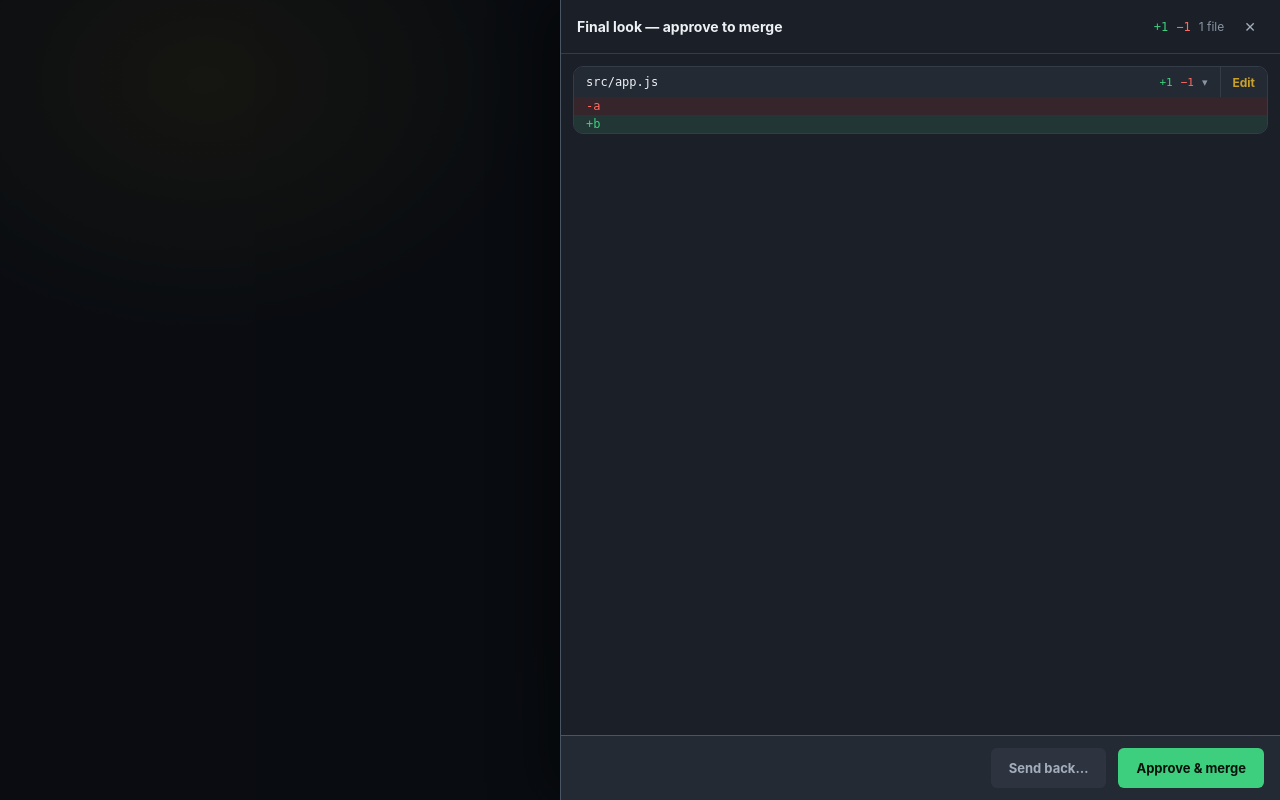
Test case: DiffPanel hand edits › says why a file cannot be opened
Click the button with aria-label "edit src/app.js".
click(1243, 82)  # box [1220,67,1267,97]
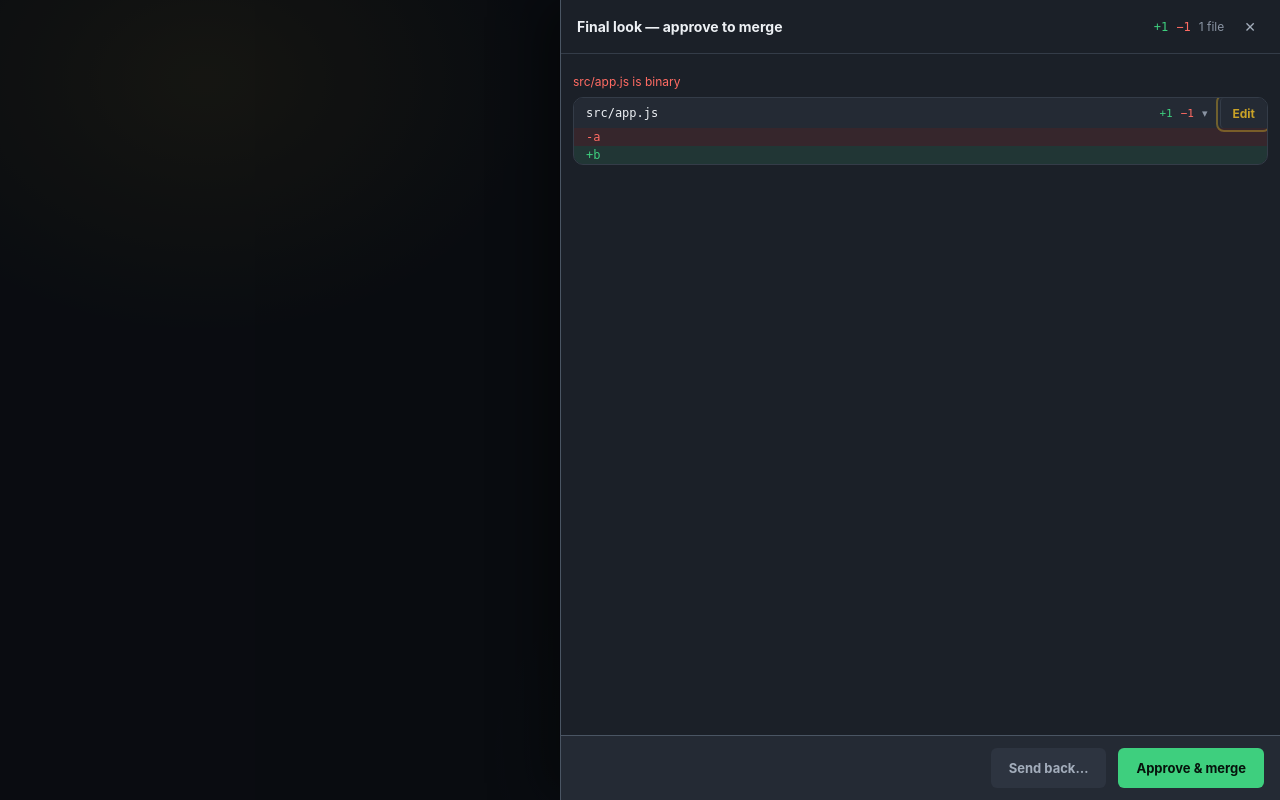
Expected: the text "src/app.js is binary" is shown, [573,74,680,89]
